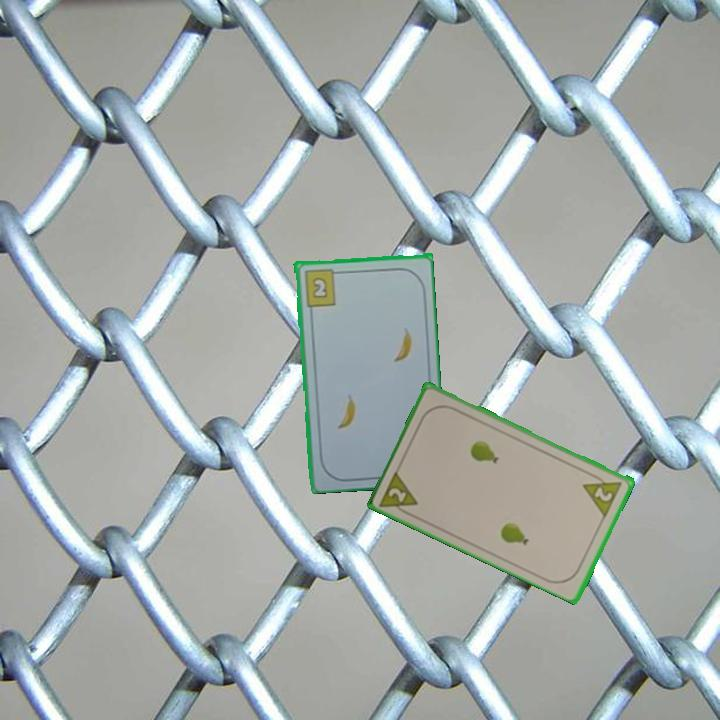2b: (301, 265, 343, 309)
2p: (376, 466, 421, 520), (579, 468, 626, 519)
